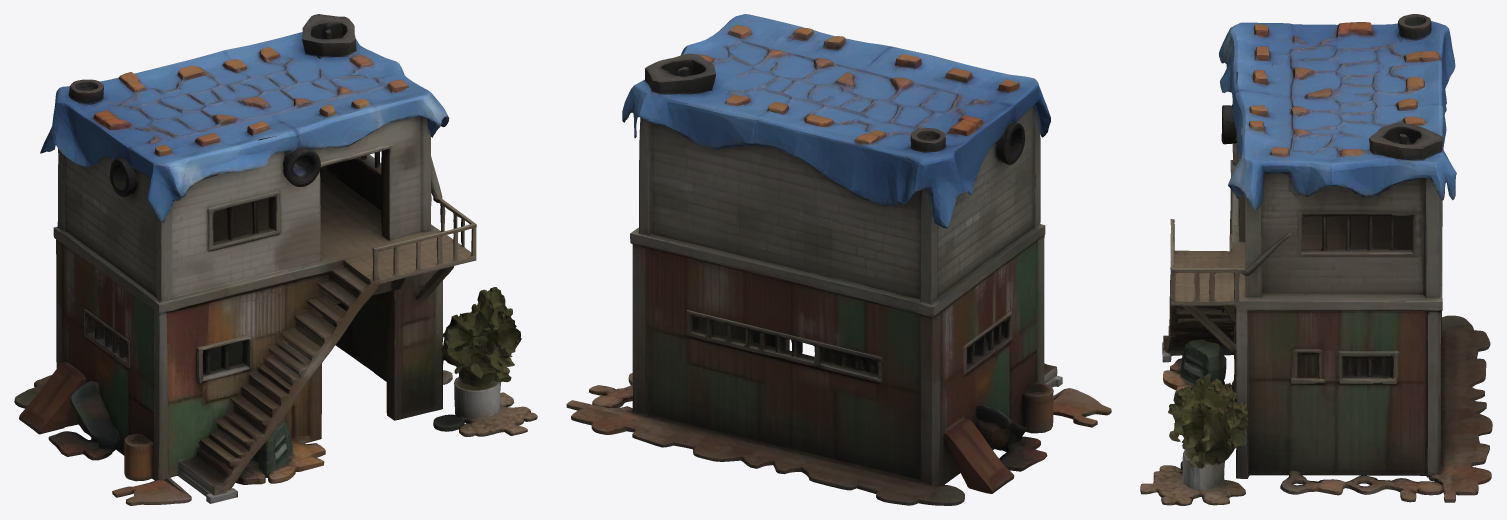
File: house.glb
3 views of the same model, side by side, from view 1: azimuth 30°, elevation 25°; view 2: azimuth 150°, elevation 25°; view 3: azimuth 270°, elevation 25° (orthographic). The views are drawn at different scales.
Parts seen in each view (by area): view 1: world; view 2: world; view 3: world.
Part boxes in pixels (<box>): world: <box>14,14,537,505</box>; world: <box>566,14,1111,505</box>; world: <box>1140,14,1492,505</box>.
Bounding box in the file's own units: 0.9966 × 0.7917 × 0.7633.
1 material, 1 textured.
